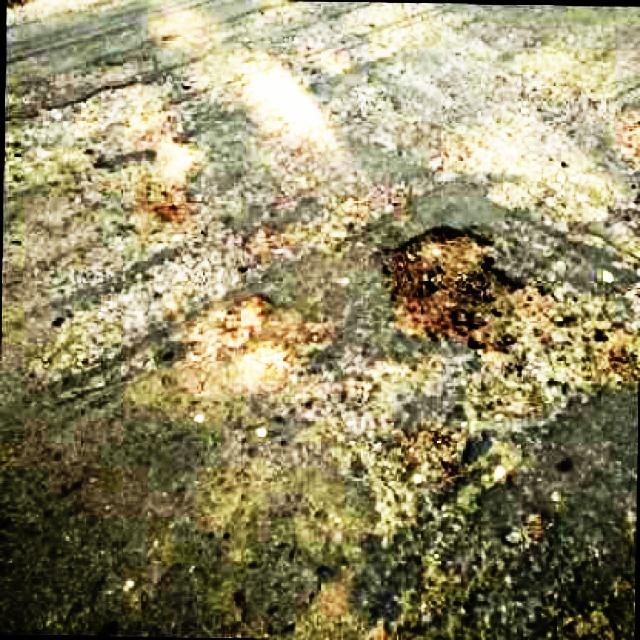pothole: (383, 226, 640, 382), (363, 411, 477, 542), (180, 283, 274, 363), (136, 170, 207, 238), (542, 594, 628, 640)
